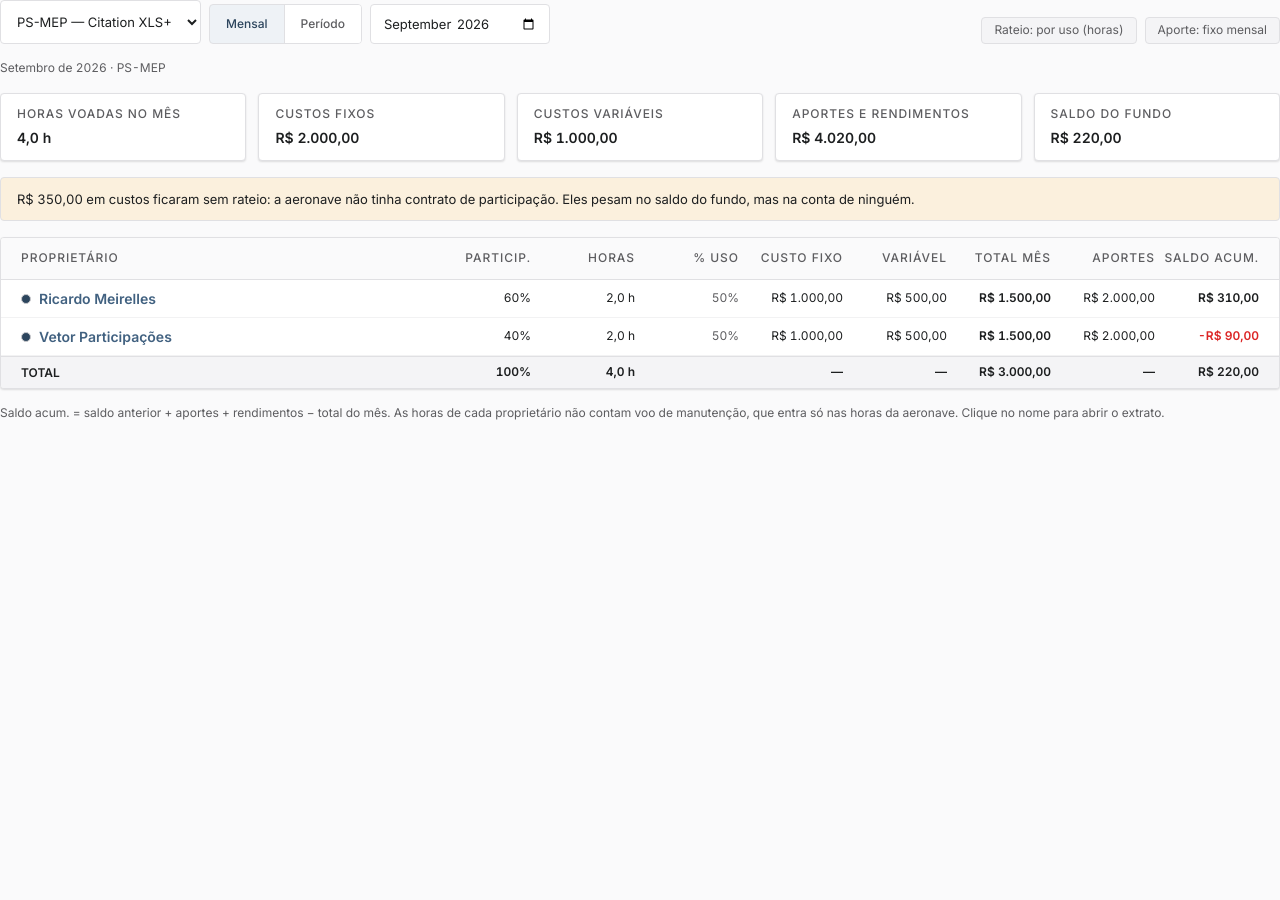
Test: PaginaDeFechamento › o nome abre o extrato, que vai do saldo anterior ao acumulado
This screenshot has width=1280, height=900.
Click the button "Vetor Participações": (105, 337) [39,326,172,347]
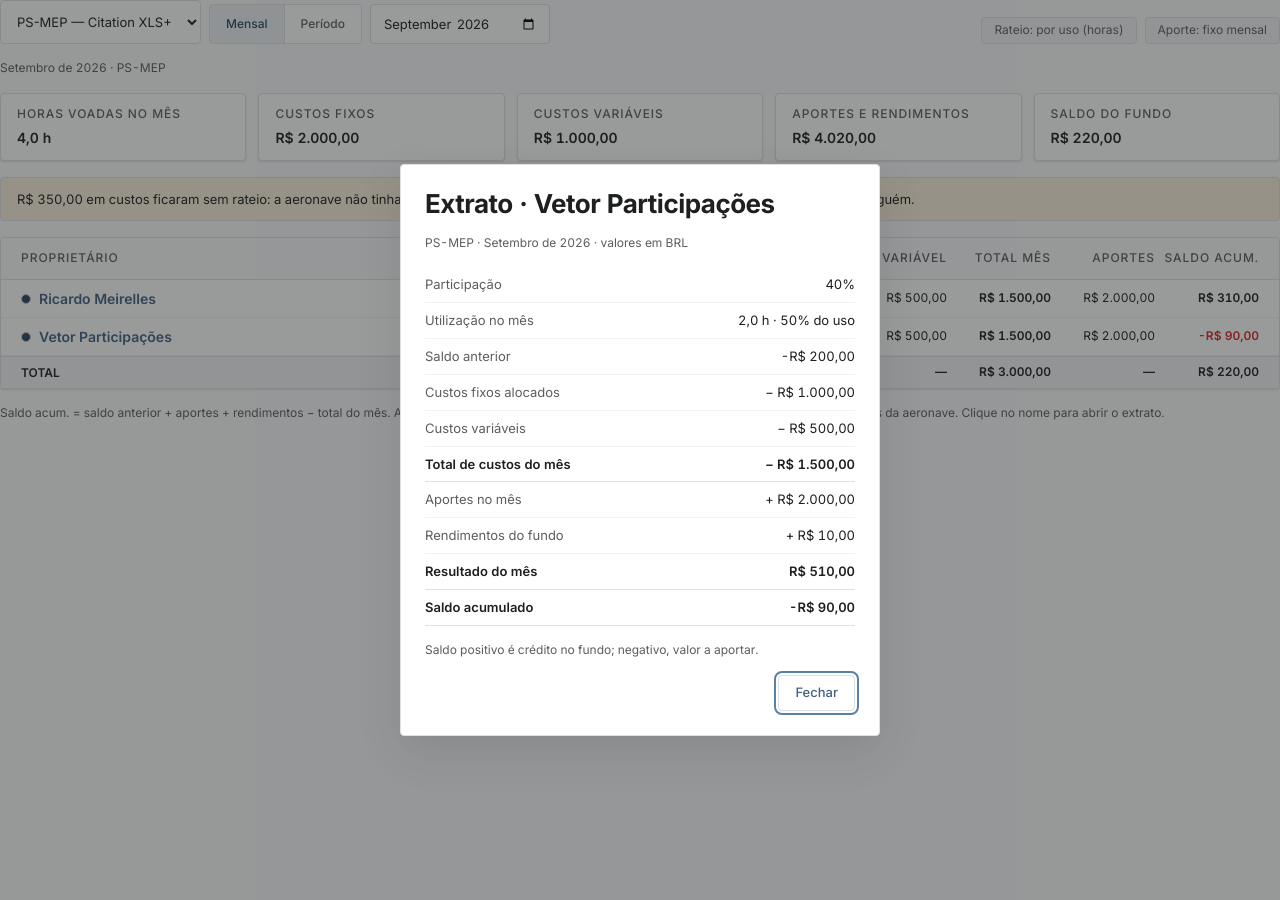
Now the text "-R$ 90,00" is shown, box [789,598,855,617]
Now the text "R$ 510,00" is shown, box [789,562,855,581]
